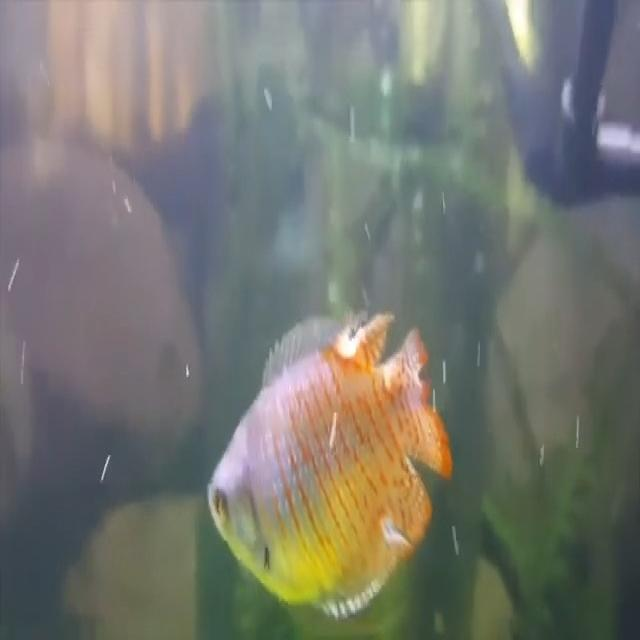fish: (205, 308, 453, 621)
